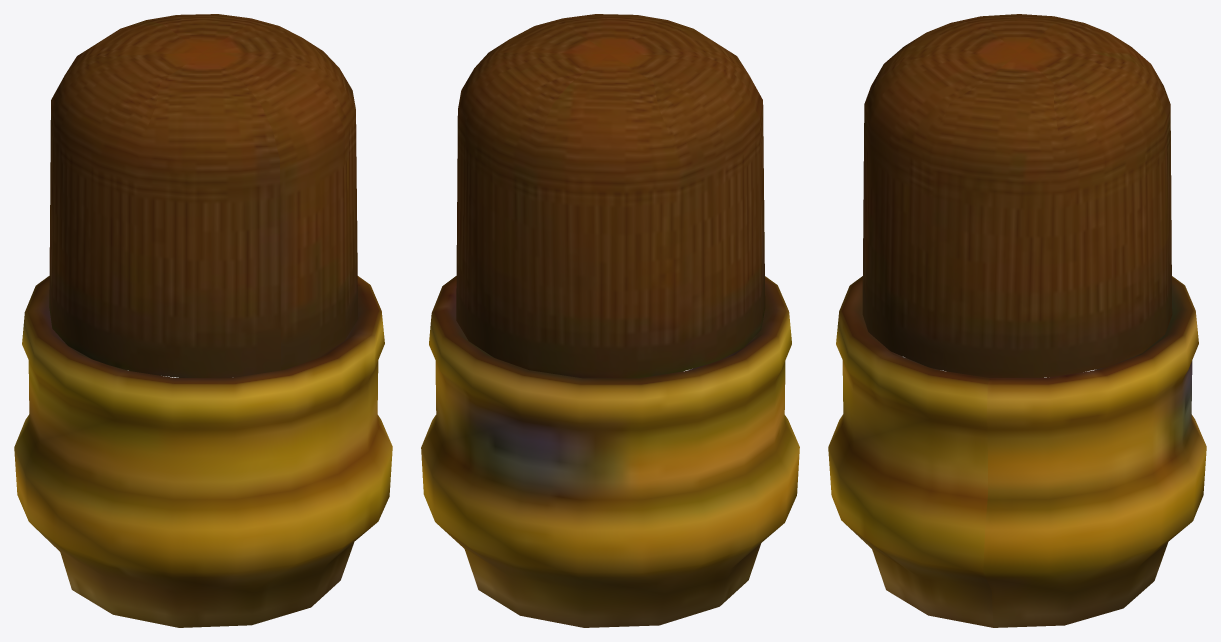
Rendered from plight.siren.orange.spinning.glb.
3 views of the same model, side by side, from view 1: azimuth 30°, elevation 25°; view 2: azimuth 150°, elevation 25°; view 3: azimuth 270°, elevation 25° (orthographic).
Visible parts, largest first — view 1: plight.siren.orange.spinning; view 2: plight.siren.orange.spinning; view 3: plight.siren.orange.spinning.
Boxes of the visible parts, box(x1,y1,x2,y2) form: plight.siren.orange.spinning: box(14, 14, 392, 627); plight.siren.orange.spinning: box(421, 14, 799, 627); plight.siren.orange.spinning: box(828, 14, 1206, 627).
Size of the model in its own units: 0.2375 by 0.3648 by 0.241.
1 material, 1 textured.
